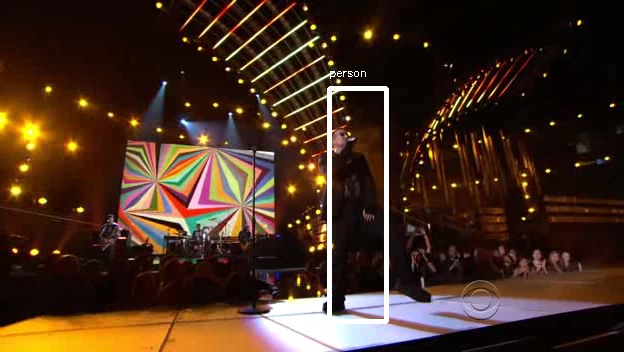person: (313, 126, 380, 242), (310, 126, 377, 242), (316, 126, 383, 242), (313, 123, 380, 239), (313, 129, 380, 245)
target_negative: (84, 138, 185, 263), (451, 203, 556, 305), (33, 287, 252, 324), (453, 138, 482, 225), (155, 164, 221, 168), (446, 346, 526, 348)
